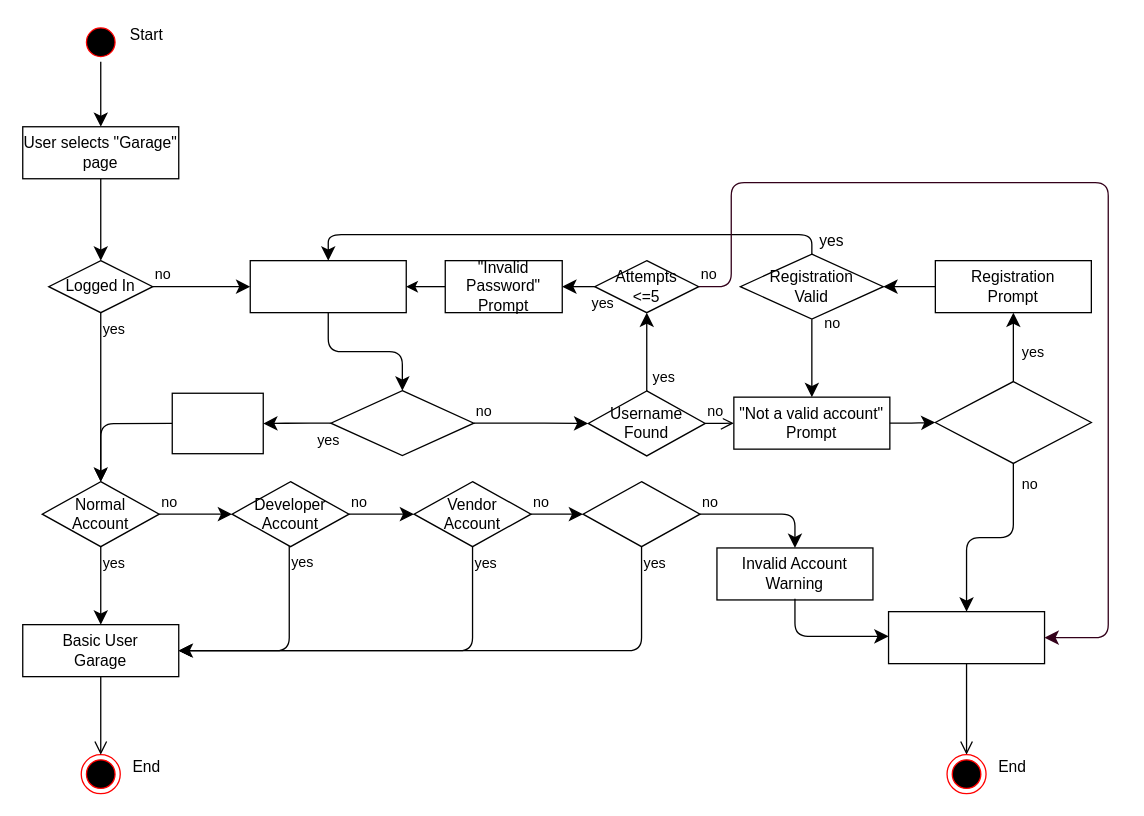
Some shapes in this 1144 by 816 pixel diagram are drawn without their labels. The centre of each missing label's shape, as x and y in pixels:
"Would you like to register?": point 1012,421
Admin Account: point 641,513
Login Prompt: point 327,286
Return to homepage: point 966,637
Sign In: point 217,423
Valid Credentials: point 402,422
